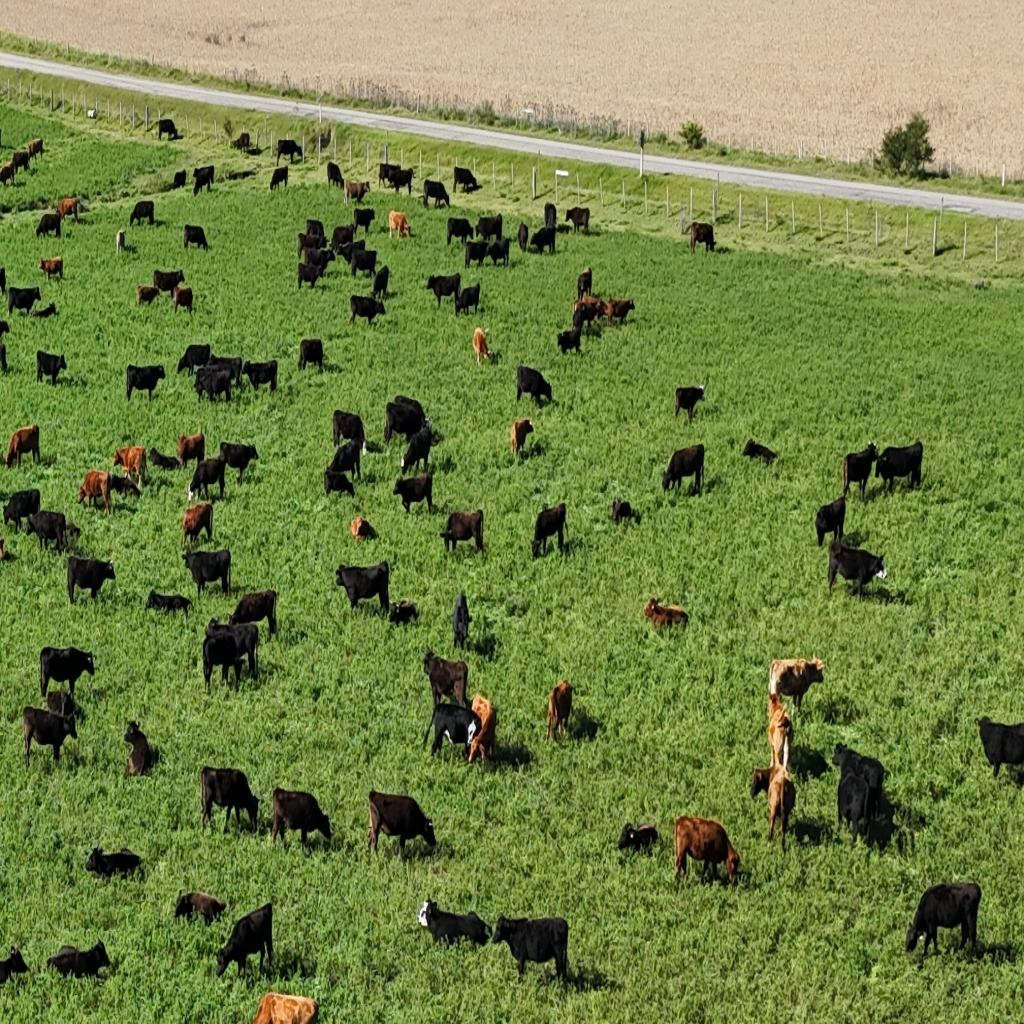cow: (906, 882, 982, 964), (493, 912, 568, 982), (366, 789, 435, 859), (214, 903, 274, 983), (673, 816, 738, 888), (747, 759, 797, 852), (272, 786, 334, 854), (198, 766, 258, 836), (833, 742, 884, 824), (828, 538, 888, 601), (418, 898, 490, 950), (23, 700, 78, 768), (202, 616, 256, 685), (769, 654, 826, 714), (974, 715, 1024, 783), (428, 701, 482, 759), (334, 560, 390, 615), (40, 646, 95, 701), (422, 651, 469, 710), (874, 440, 923, 494), (48, 940, 110, 982), (66, 552, 116, 604), (183, 546, 231, 596), (230, 589, 278, 637), (85, 844, 144, 883), (27, 509, 77, 555), (766, 690, 794, 772), (383, 396, 427, 447), (841, 443, 878, 503), (468, 693, 498, 767), (440, 508, 485, 557), (663, 444, 704, 496), (531, 502, 568, 559), (186, 455, 227, 503), (174, 890, 226, 926), (218, 440, 260, 484), (325, 438, 364, 485), (545, 680, 574, 743), (393, 470, 433, 515), (400, 422, 432, 478), (77, 469, 113, 517), (2, 488, 40, 533), (123, 719, 153, 776), (816, 494, 846, 549), (194, 365, 234, 406), (126, 364, 166, 404), (516, 364, 552, 408), (112, 444, 148, 488), (181, 502, 213, 550), (5, 425, 40, 467), (644, 597, 686, 632), (674, 380, 706, 424), (241, 359, 278, 397), (332, 409, 366, 449), (145, 589, 192, 617), (176, 342, 211, 378), (0, 945, 30, 987), (349, 294, 386, 328), (451, 592, 473, 649), (176, 430, 206, 471), (618, 822, 656, 854), (426, 274, 461, 308), (572, 294, 604, 330), (36, 350, 67, 386), (7, 285, 41, 317), (47, 688, 77, 724), (600, 297, 634, 328), (741, 438, 778, 466), (336, 238, 366, 272), (510, 417, 534, 459), (110, 472, 143, 502), (306, 245, 336, 278), (349, 246, 377, 281), (297, 260, 327, 292), (324, 467, 354, 499), (686, 221, 715, 254), (556, 323, 584, 356), (298, 338, 324, 373), (153, 268, 185, 296), (454, 281, 480, 315), (297, 231, 325, 262), (422, 179, 450, 209), (475, 214, 503, 244), (485, 236, 511, 268), (610, 497, 638, 526), (529, 226, 556, 256), (388, 600, 418, 627), (464, 239, 490, 270), (330, 224, 356, 255), (446, 217, 472, 247), (452, 164, 478, 194), (148, 448, 180, 472), (472, 326, 491, 366), (35, 212, 62, 240), (275, 139, 304, 165), (182, 224, 208, 252), (564, 206, 590, 234), (344, 178, 370, 206), (38, 256, 64, 284), (387, 210, 411, 240), (192, 164, 214, 196), (393, 394, 425, 416), (130, 200, 154, 229), (56, 196, 79, 226), (372, 265, 390, 302), (172, 284, 193, 315), (352, 208, 376, 234), (394, 166, 414, 195), (269, 165, 289, 193), (576, 267, 592, 302), (326, 161, 344, 191), (136, 285, 160, 307), (350, 516, 372, 540), (156, 118, 178, 141), (304, 218, 326, 241), (378, 162, 396, 190), (26, 137, 44, 164), (11, 151, 29, 177), (30, 301, 57, 318), (204, 617, 224, 639), (0, 161, 16, 188), (0, 537, 17, 562), (544, 202, 557, 230), (226, 170, 256, 182), (518, 221, 529, 253), (172, 168, 187, 190), (235, 132, 250, 153), (0, 340, 9, 374), (116, 228, 126, 254), (0, 317, 10, 340), (554, 221, 570, 234), (0, 266, 6, 295)
